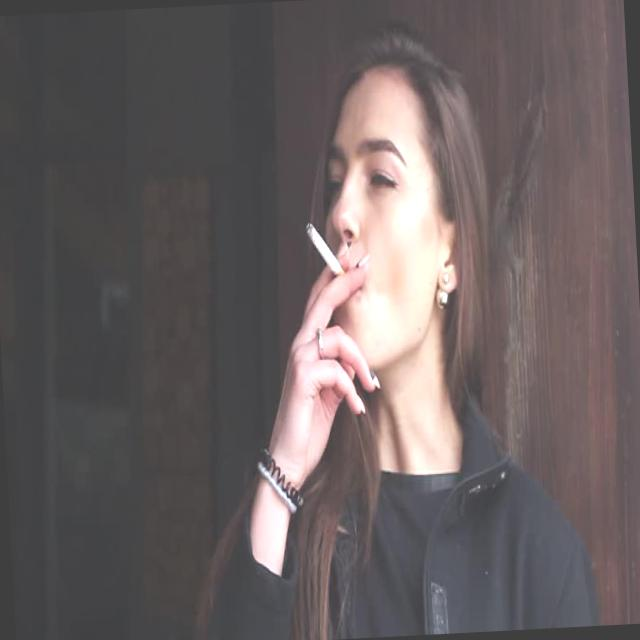smoke: (296, 192, 366, 306)
